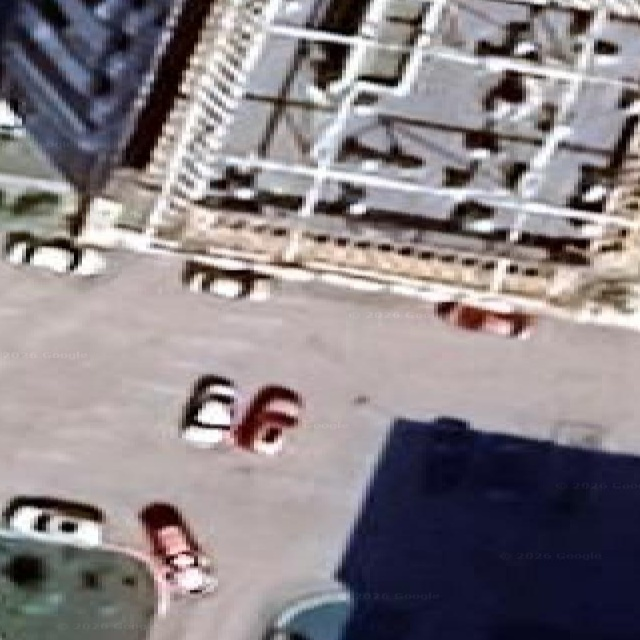car: (139, 502, 217, 594), (2, 497, 104, 545), (234, 385, 302, 454), (262, 589, 353, 639), (4, 232, 105, 276), (181, 375, 236, 447), (436, 301, 534, 339), (182, 260, 271, 300), (27, 237, 80, 272), (0, 100, 25, 139), (4, 231, 32, 264)
